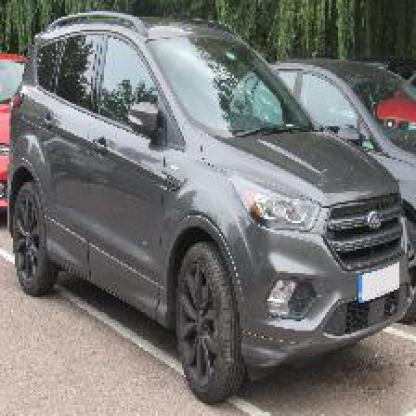not_emergency: (9, 20, 388, 381)
